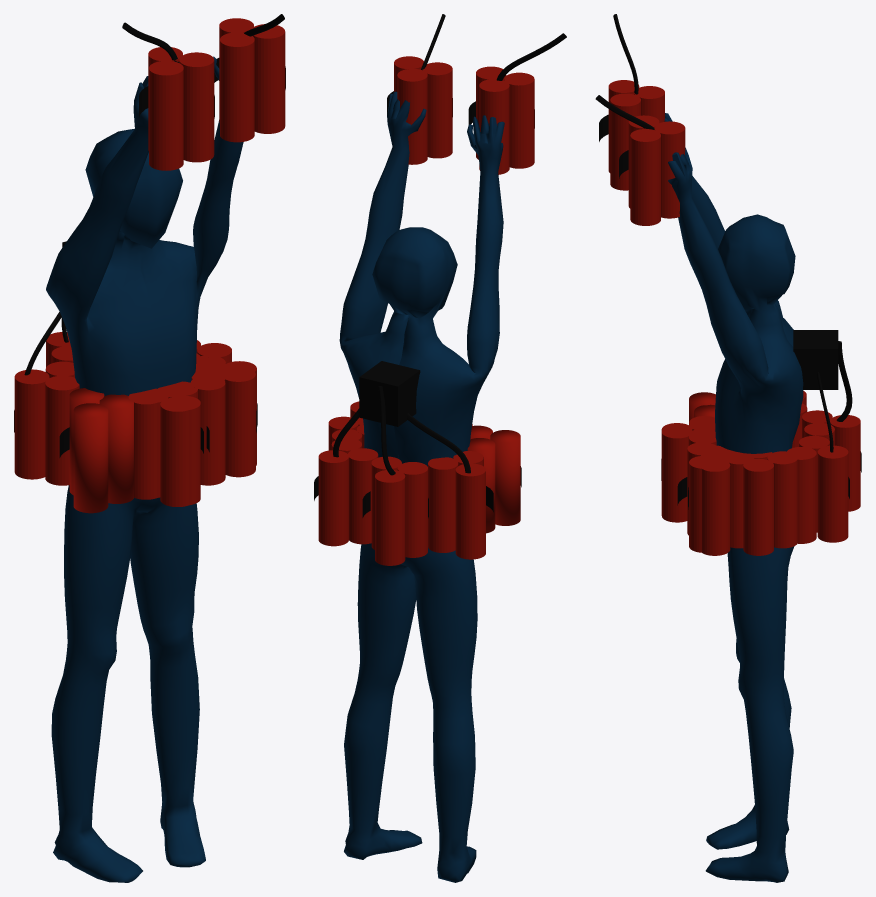
Rendered from suicide bomber.glb.
The picture shows the model from 3 angles, left to right: view 1: azimuth 30°, elevation 25°; view 2: azimuth 150°, elevation 25°; view 3: azimuth 270°, elevation 25°; orthographic projection. The views are drawn at different scales.
Visible parts, largest first — view 1: Cube; view 2: Cube; view 3: Cube.
Part boxes in pixels (x1,y1,x2,y2): Cube: (14, 14, 285, 882); Cube: (314, 14, 566, 882); Cube: (595, 14, 861, 882).
Size of the model in its own units: 1.38 by 6.09 by 1.82.
